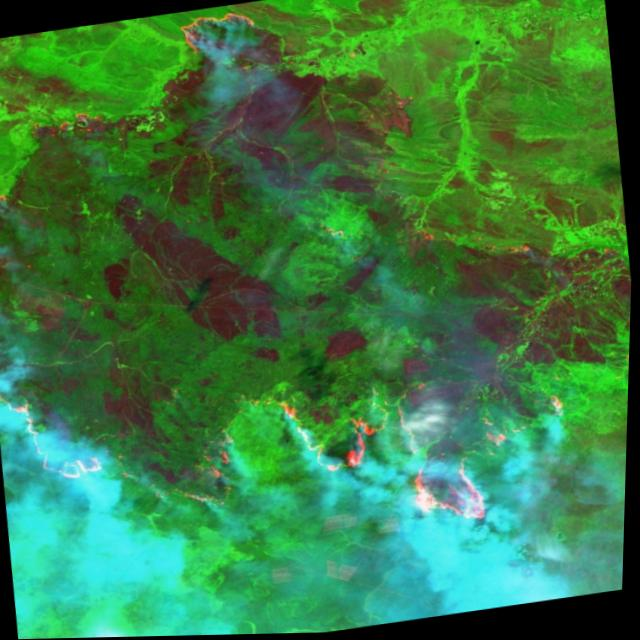fire: (0, 309, 585, 590), (175, 0, 270, 62)
